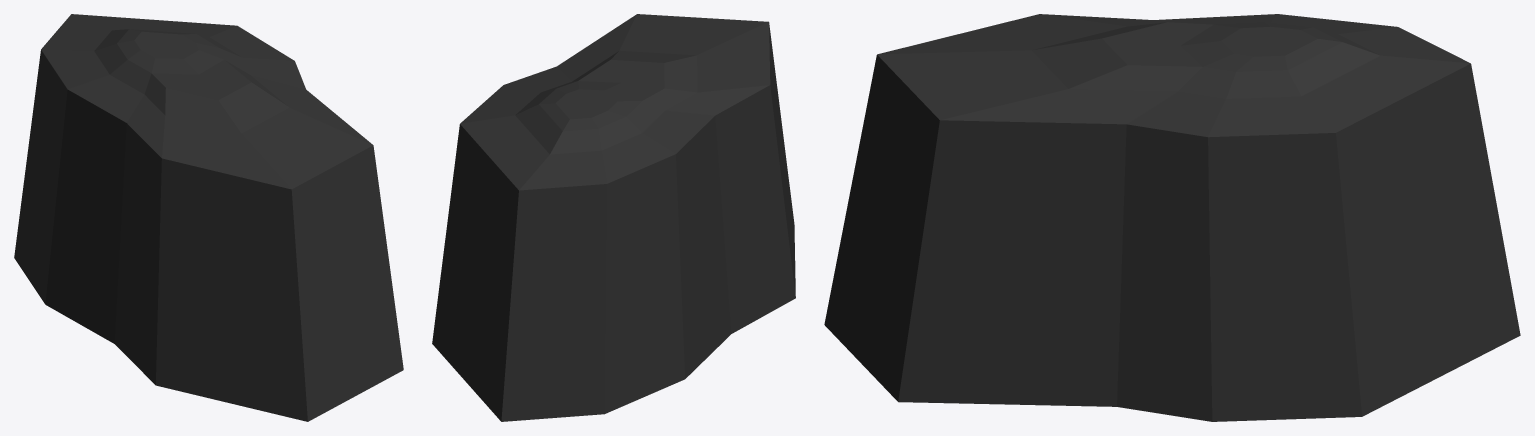
File: RockLarge_1.fbx
3 renders of one model, left to right at view 1: azimuth 30°, elevation 25°; view 2: azimuth 150°, elevation 25°; view 3: azimuth 270°, elevation 25°, orthographic. The views are drawn at different scales.
Visible parts, largest first — view 1: RockLarge_1; view 2: RockLarge_1; view 3: RockLarge_1.
Boxes of the visible parts, box(x1,y1,x2,y2) form: RockLarge_1: box(14, 14, 403, 421); RockLarge_1: box(432, 14, 795, 421); RockLarge_1: box(824, 14, 1520, 421).
Size of the model in its own units: 597 by 587 by 1217.
